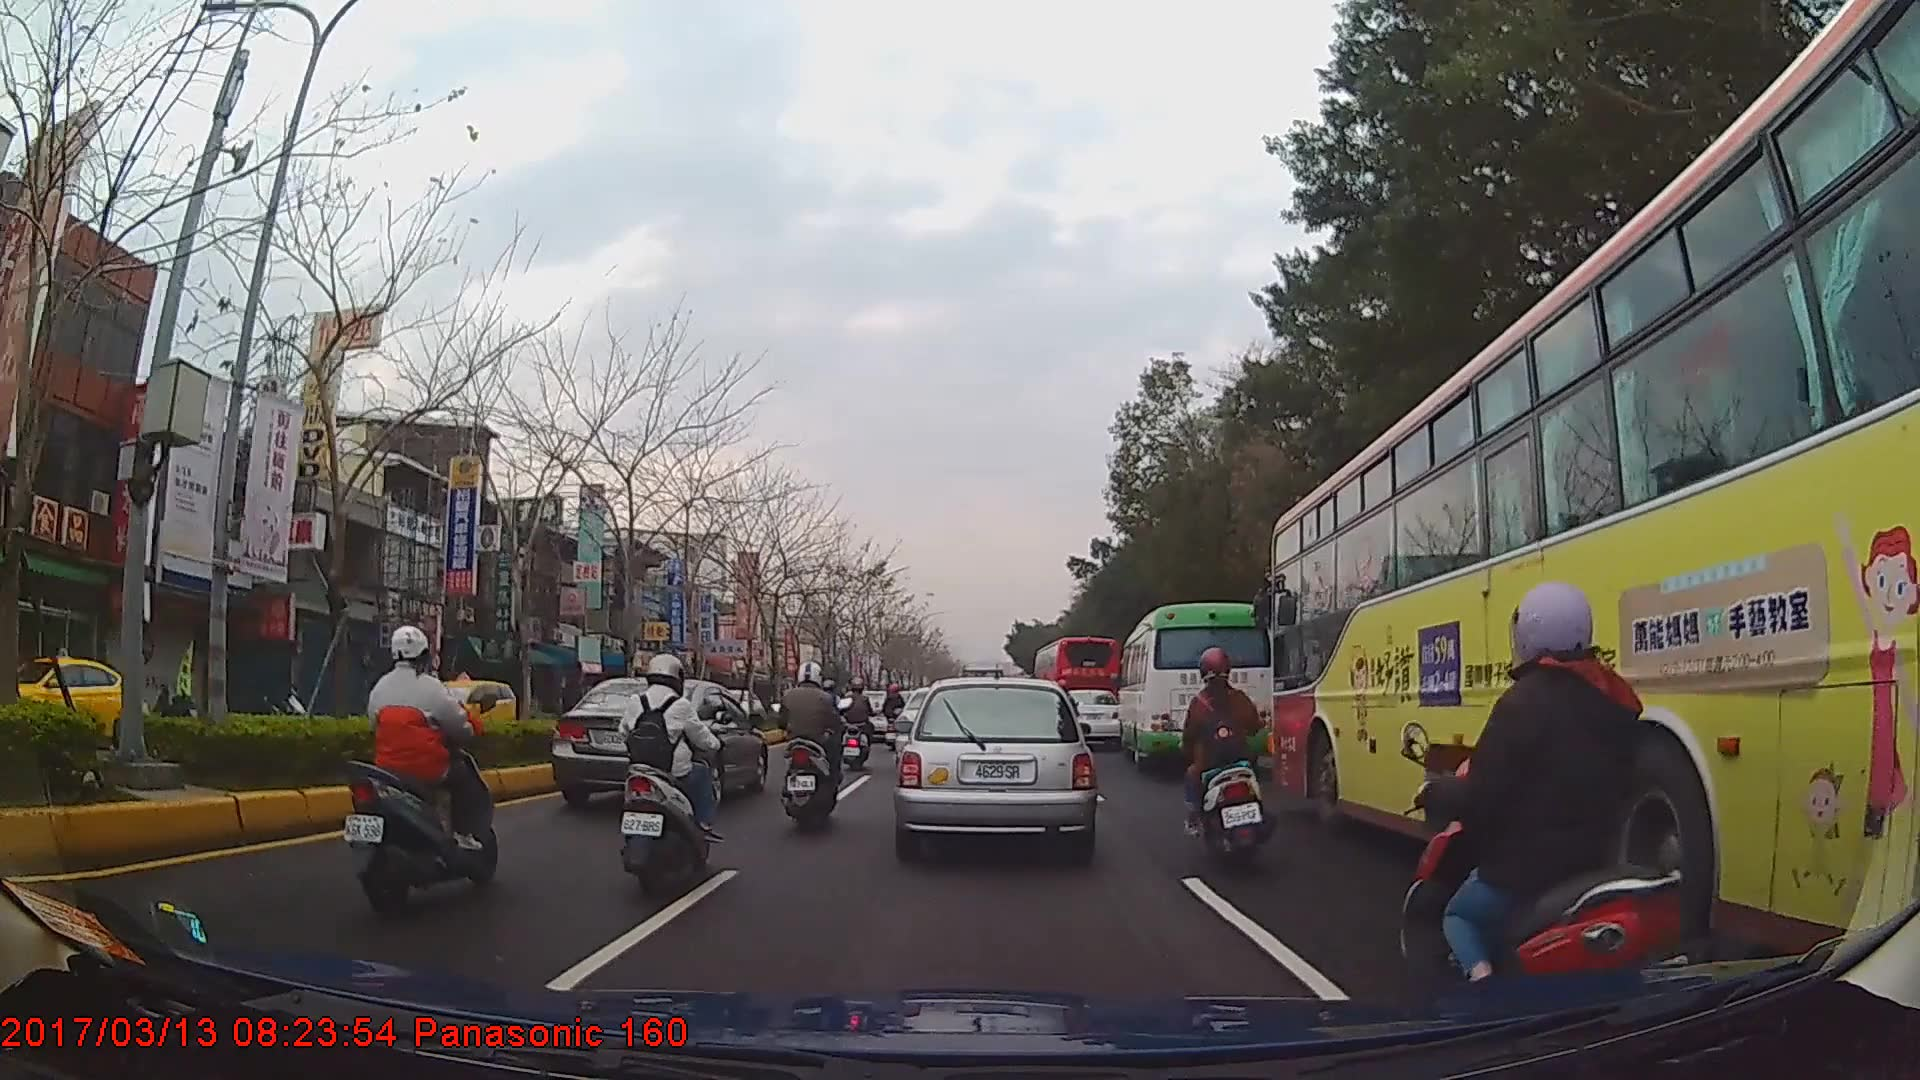rider: (1406, 581, 1702, 1017), (345, 623, 500, 915), (618, 653, 720, 904), (1176, 645, 1271, 865), (772, 662, 848, 831), (840, 678, 879, 771), (882, 682, 906, 750)
vehicle: (1266, 0, 1920, 985), (895, 672, 1096, 859), (548, 676, 770, 809), (1115, 601, 1275, 772), (0, 650, 148, 755), (393, 667, 523, 748), (1032, 634, 1117, 740), (1055, 687, 1122, 744)
